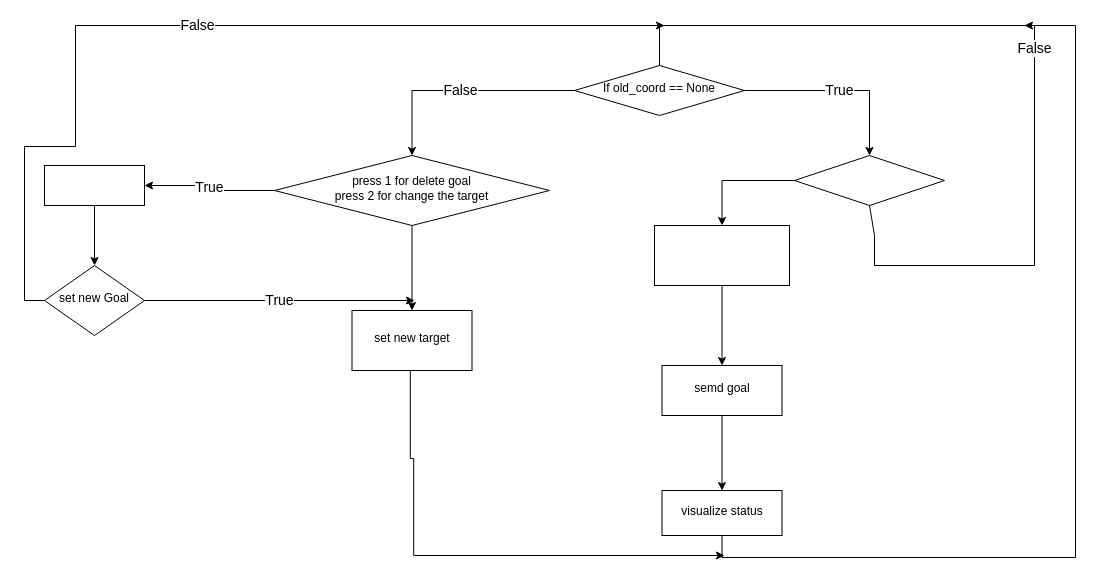
Some shapes in this 1101 by 583 pixel diagram are drawn without their labels. The shapes that lost their labels are listed below. From the top down, each one's centre as x and y in pixels, then its label:
At point 94,185: "Delete Goal".
At point 869,180: "set new Goal?".
At point 722,255: "coord = input_coord() old_coord = coord".
